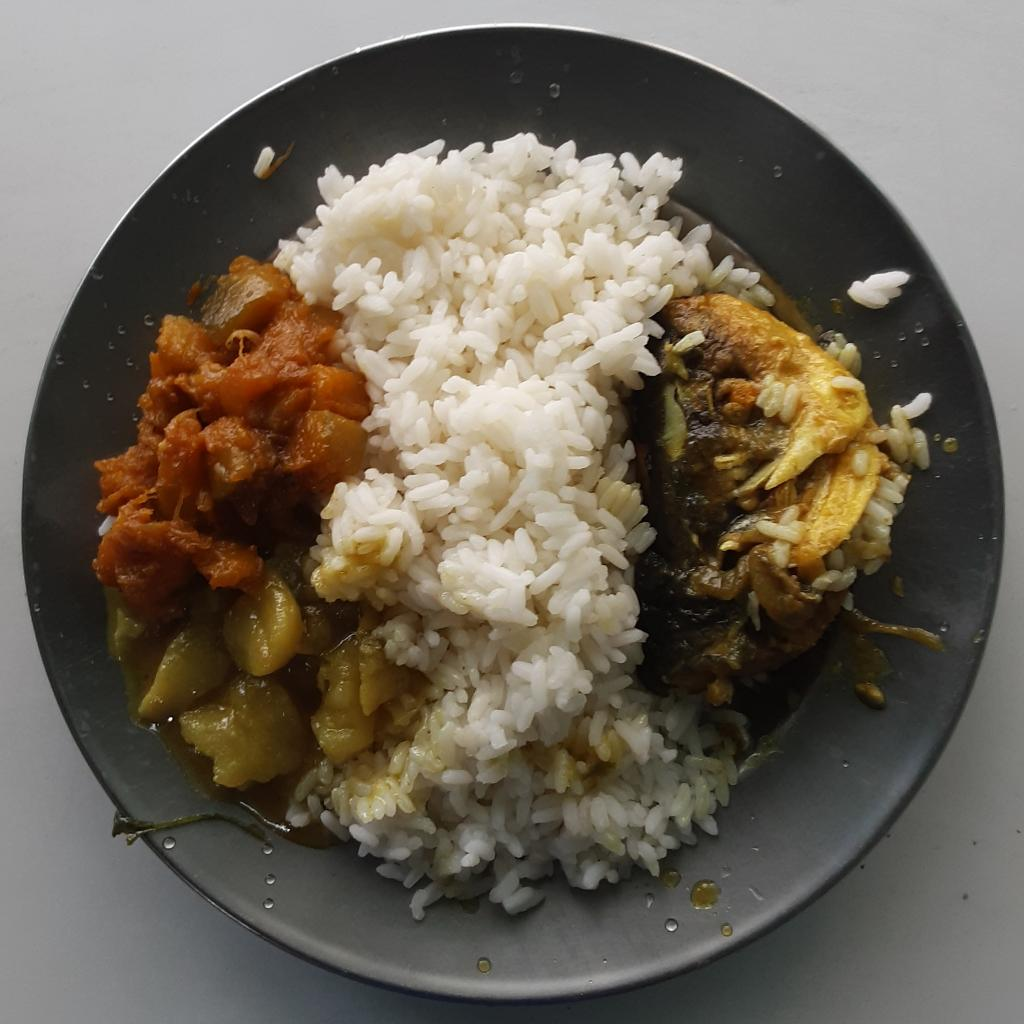fish: (630, 291, 892, 690)
kumra-vaji: (91, 252, 368, 603)
lau: (107, 506, 404, 830)
rice: (275, 134, 780, 925), (801, 381, 937, 592)
